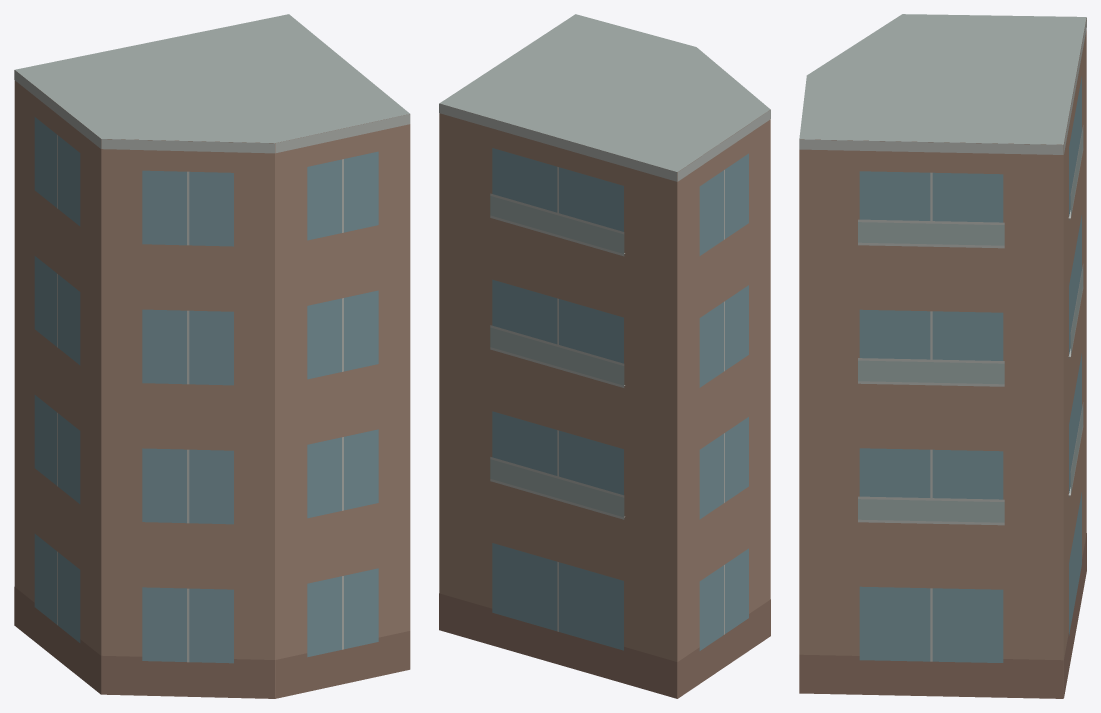
Rendered from survey-upis-32471759.glb.
3 renders of one model, left to right at view 1: azimuth 30°, elevation 25°; view 2: azimuth 150°, elevation 25°; view 3: azimuth 270°, elevation 25°, orthographic. The views are drawn at different scales.
Parts seen in each view (by area): view 1: survey-upis-32471759.tmp; view 2: survey-upis-32471759.tmp; view 3: survey-upis-32471759.tmp.
Part boxes in pixels (left/top/right/bottom): survey-upis-32471759.tmp: left=14, top=14, right=410, bottom=698; survey-upis-32471759.tmp: left=439, top=14, right=770, bottom=698; survey-upis-32471759.tmp: left=799, top=14, right=1086, bottom=698.
Bounding box in the file's own units: 6.69 × 13.2 × 6.22.
